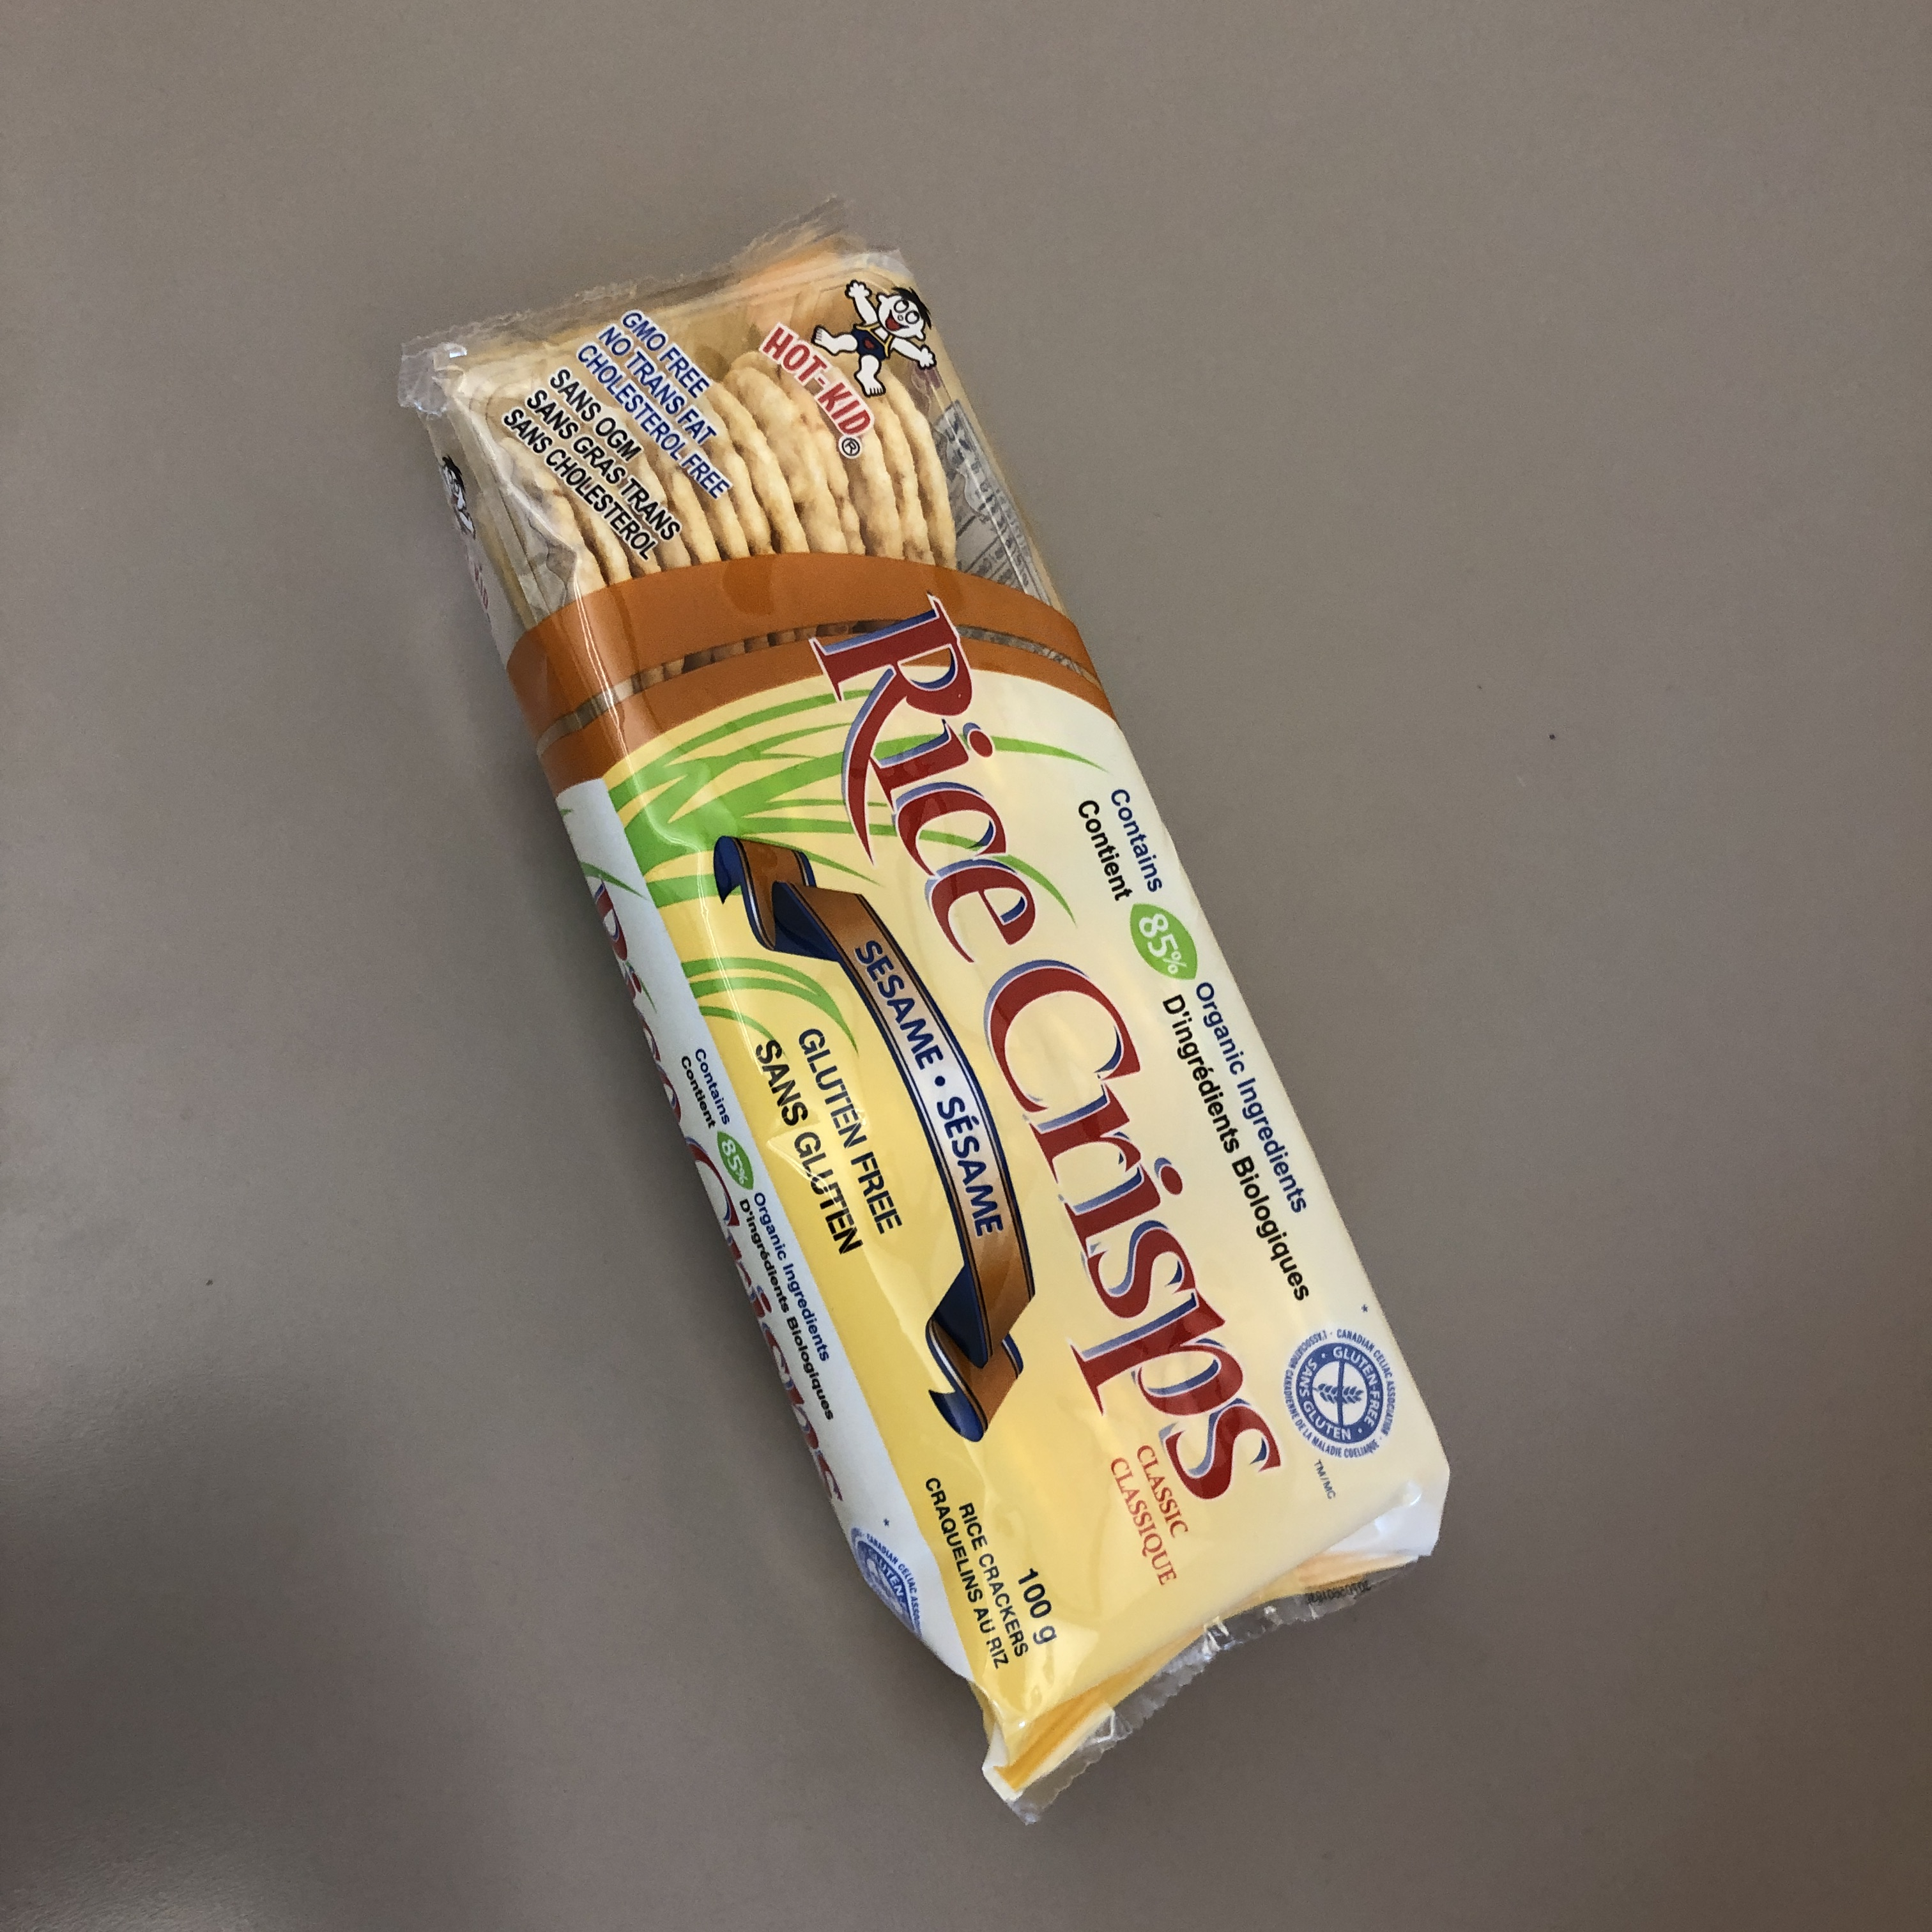hot_kid_rice_crisps_sesame: (332, 549, 1646, 1446)
